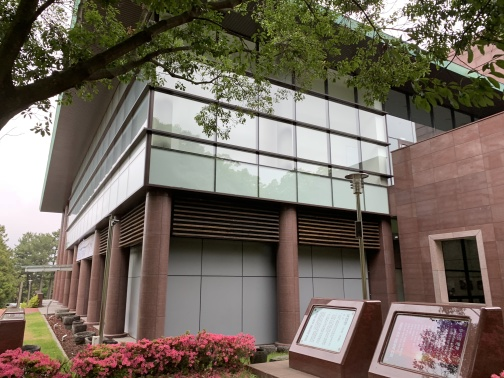Museum: (36, 19, 457, 371)
